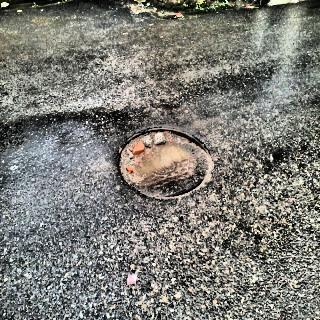pothole: (98, 129, 237, 218)
